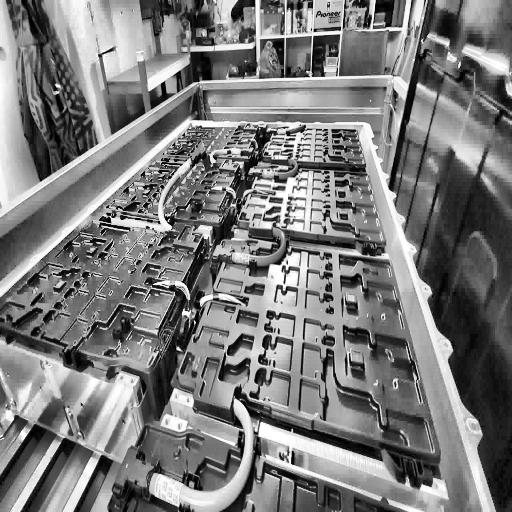high_volt_cable: (115, 370, 262, 512), (155, 139, 208, 235), (215, 216, 290, 271), (250, 153, 300, 183), (207, 143, 257, 165), (269, 122, 306, 137)
